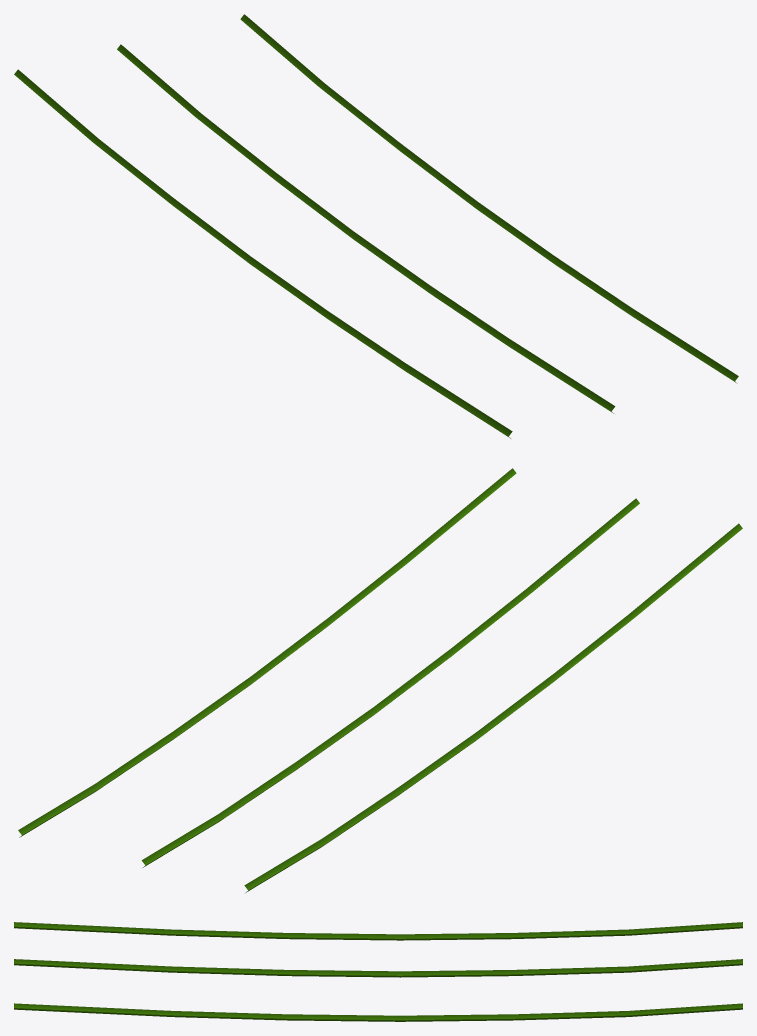
Rendered from TelegraphWiresNight.glb.
3 renders of one model, top to bottom at view 1: azimuth 30°, elevation 25°; view 2: azimuth 150°, elevation 25°; view 3: azimuth 270°, elevation 25°, orthographic. The views are drawn at different scales.
Visible parts, largest first — view 1: TelegraphWiresNight; view 2: TelegraphWiresNight; view 3: TelegraphWiresNight.
Part boxes in pixels (x1,y1,x2,y2): TelegraphWiresNight: (14,14,738,438); TelegraphWiresNight: (18,468,742,892); TelegraphWiresNight: (14,922,742,1021).
Size of the model in its own units: 2.03 by 0.2075 by 7.44.
Materials: 4 (4 with a texture image).
